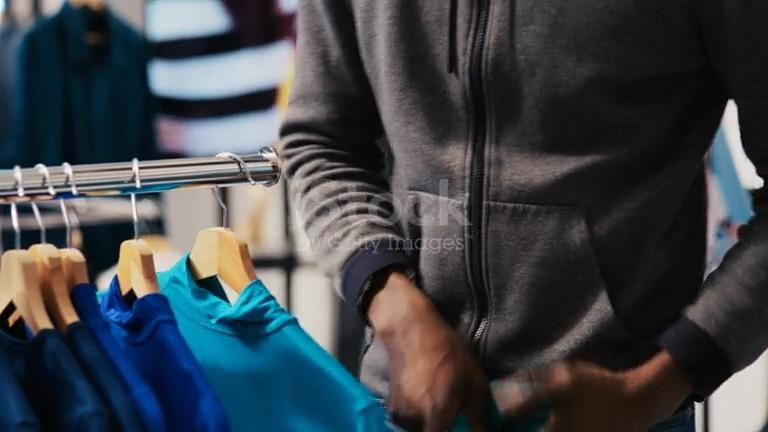Shoplifting: (250, 0, 768, 432)
